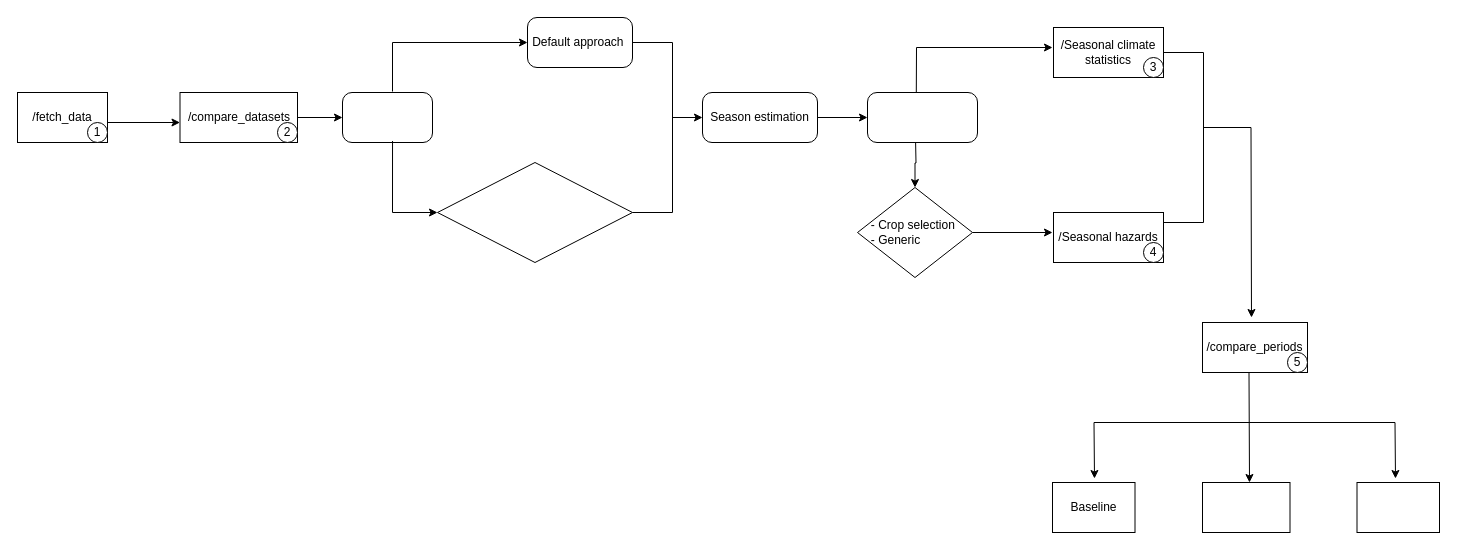
Image size: 1457x550. Some labels were removed from this diagram. The shapes that lost their labels are listed below. From the top down, each one's centre as x and y in pixels, then its label:
At point (387, 117): "Daily data".
At point (922, 117): "Seasonal daily data".
At point (534, 212): "- User suggest seasons date - Use crop calendar".
At point (1246, 507): "Actual".
At point (1398, 507): "Future".
